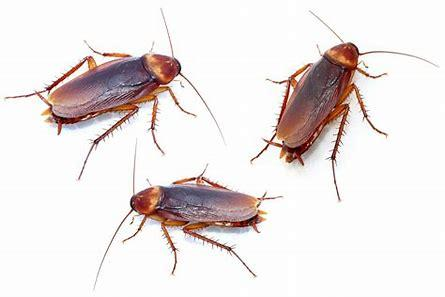cockroach: (245, 18, 433, 204), (4, 15, 235, 164), (96, 168, 297, 277)
